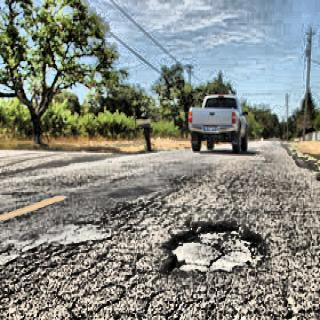alligator-crack: (4, 246, 294, 320)
pothole: (159, 217, 259, 280)
